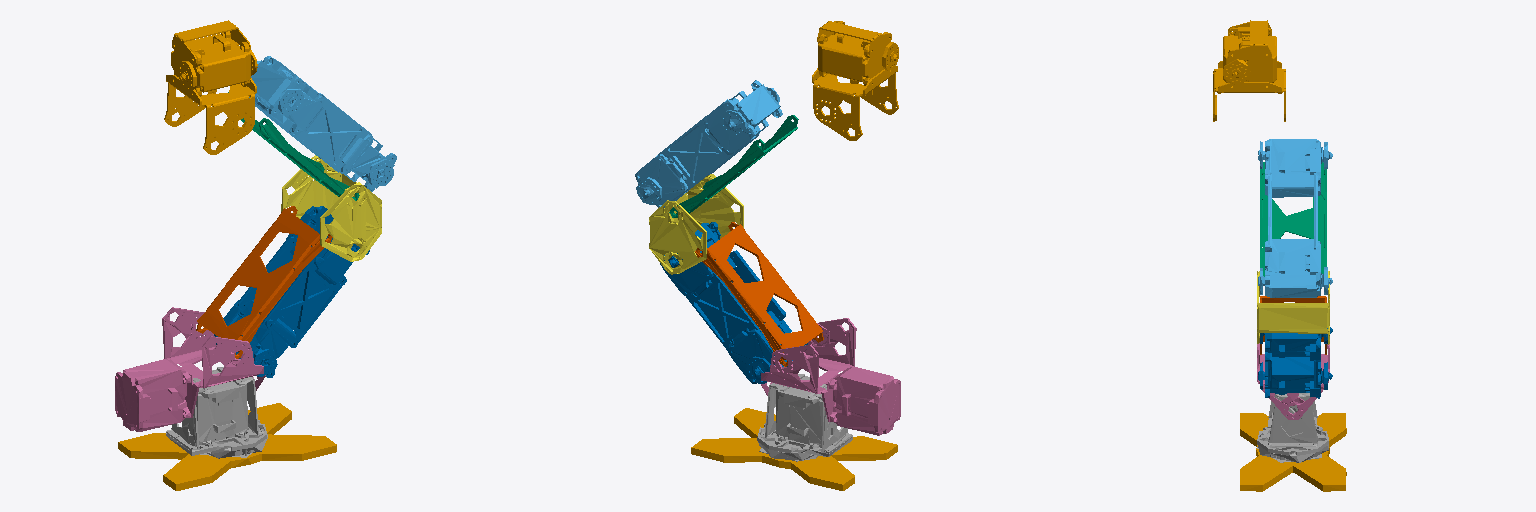
The robot description file, URDF, robot "ginko":
<?xml version="1.0" ?>
<!-- =================================================================================== -->
<!-- |    This document was autogenerated by xacro from leg_l_test.urdf.xacro          | -->
<!-- |    EDITING THIS FILE BY HAND IS NOT RECOMMENDED                                 | -->
<!-- =================================================================================== -->
<robot name="ginko" xmlns:xacro="http://www.ros.org/wiki/xacro">

  <link name="leg_l_link0">
    <!-- Collision created from STL mesh without color -->
    <collision>
      <origin rpy="0 0 0" xyz="0 0 0"/>
      <geometry>
        <mesh filename="package://ginko_description/models/ginko_auto/meshes/stl/link02_l_femoral.stl"/>
      </geometry>
    </collision>
    <!-- Visualisation created from Color dae -->
    <visual>
      <origin rpy="0 0 0" xyz="0 0 0"/>
      <geometry>
        <mesh filename="package://ginko_description/models/ginko_auto/meshes/stl/link02_l_femoral.stl"/>
        <!-- <mesh filename="package://ginko_description/models/ginko_auto/meshes/dae/link02_l_femoral.dae"/> -->
      </geometry>
    </visual>
    <inertial>
      <mass value="0.03433352"/>
      <origin rpy="0 0 0" xyz="0.02930795 0.03723759 -0.02605386"/>
      <inertia ixx="0.00002443" ixy="-0.00000021" ixz="-0.00000021" iyy="0.00002287" iyz="-0.00000391" izz="0.00002983"/>
    </inertial>
  </link>

  <!-- parallel link (upper-1st) -->
  <link name="leg_l_link1">
    <!-- Collision created from STL mesh without color -->
    <collision>
      <origin rpy="0 0 0" xyz="0 0 0"/>
      <geometry>
        <mesh filename="package://ginko_description/models/ginko_auto/meshes/stl/link03_l_leg01.stl"/>
      </geometry>
    </collision>
    <!-- Visualisation created from Color dae -->
    <visual>
      <origin rpy="0 0 0" xyz="0 0 0"/>
      <geometry>
        <mesh filename="package://ginko_description/models/ginko_auto/meshes/stl/link03_l_leg01.stl"/>
        <!-- <mesh filename="package://ginko_description/models/ginko_auto/meshes/dae/link03_l_leg01.dae"/> -->
      </geometry>
    </visual>
    <inertial>
      <mass value="0.18525692"/>
      <origin rpy="0 0 0" xyz="0.05000000 0.03285059 0.00068146"/>
      <inertia ixx="0.00041331" ixy="-0.00003605" ixz="-0.00000000" iyy="0.00027917" iyz="-0.00000184" izz="0.00066510"/>
    </inertial>
  </link>
  <joint name="leg_l_joint1" type="revolute">
    <parent link="leg_l_link0"/>
    <child link="leg_l_link1"/>
    <origin rpy="0 0.7854 0" xyz="0.0433 0.0175 -0.0481"/>
    <axis xyz="0 -1 0"/>
    <limit effort="1000.0" lower="-1.3" upper="0.7854" velocity="0.5"/>
  </joint>
  <!-- parallel link (upper-2nd) -->
  <link name="leg_l_link2">
    <!-- Collision created from STL mesh without color -->
    <collision>
      <origin rpy="0 0 0" xyz="0 0 0"/>
      <geometry>
        <mesh filename="package://ginko_description/models/ginko_auto/meshes/stl/link04_l_leg02.stl"/>
      </geometry>
    </collision>
    <!-- Visualisation created from Color dae -->
    <visual>
      <origin rpy="0 0 0" xyz="0 0 0"/>
      <geometry>
        <mesh filename="package://ginko_description/models/ginko_auto/meshes/stl/link04_l_leg02.stl"/>
        <!-- <mesh filename="package://ginko_description/models/ginko_auto/meshes/dae/link04_l_leg02.dae"/> -->
      </geometry>
    </visual>
    <inertial>
      <mass value="0.01646643"/>
      <origin rpy="0 0 0" xyz="0.05000000 0.02495100 -0.00491150"/>
      <inertia ixx="0.00000640" ixy="0.00000000" ixz="0.00000000" iyy="0.00001642" iyz="0.00000000" izz="0.00002264"/>
    </inertial>
  </link>
  <joint name="leg_l_joint2" type="revolute">
    <parent link="leg_l_link0"/>
    <child link="leg_l_link2"/>
    <origin rpy="0 0.7854 0" xyz="0.022 0.0175 -0.06015"/>
    <axis xyz="0 -1 0"/>
    <limit effort="1000.0" lower="-3.141593" upper="3.141593" velocity="0.5"/>
  </joint>
  <!-- knee -->
  <link name="leg_l_link3">
    <collision>
      <origin rpy="0 0 0" xyz="0 0 0"/>
      <geometry>
        <mesh filename="package://ginko_description/models/ginko_auto/meshes/stl/link05_l_knee.stl"/>
      </geometry>
    </collision>
    <visual>
      <origin rpy="0 0 0" xyz="0 0 0"/>
      <geometry>
        <mesh filename="package://ginko_description/models/ginko_auto/meshes/stl/link05_l_knee.stl"/>
        <!-- <mesh filename="package://ginko_description/models/ginko_auto/meshes/dae/link05_l_knee.dae"/> -->
      </geometry>
    </visual>
    <inertial>
      <mass value="0.01781176"/>
      <origin rpy="0 0 0" xyz="0.00393357 0.02364163 -0.01930000"/>
      <inertia ixx="0.00001301" ixy="0.00000008" ixz="0.00000000" iyy="0.00000700" iyz="0.00000000" izz="0.00001388"/>
    </inertial>
  </link>
<!--   <joint name="leg_l_joint3" type="revolute">
    <parent link="leg_l_link1"/>
    <child link="leg_l_link3"/>
    <origin rpy="0 -0.7854 0" xyz="0.1 0.0 0.0"/>
    <axis xyz="0 1 0"/>
    <limit effort="1000.0" lower="-3.141593" upper="3.141593" velocity="0.5"/>
  </joint> -->
  <joint name="leg_l_joint3_sub" type="revolute">
    <parent link="leg_l_link2"/>
    <child link="leg_l_link3"/>
    <origin rpy="0 -0.7854 0" xyz="0.1 0.0 0.0"/>
    <axis xyz="0 1 0"/>
    <limit effort="1000.0" lower="-3.141593" upper="3.141593" velocity="0.5"/>
  </joint>
  <!-- parallel link (lower-1st) -->
  <link name="leg_l_link4">
    <collision>
      <origin rpy="0 0 0" xyz="0 0 0"/>
      <geometry>
        <mesh filename="package://ginko_description/models/ginko_auto/meshes/stl/link03_l_leg01.stl"/>
      </geometry>
    </collision>
    <visual>
      <origin rpy="0 0 0" xyz="0 0 0"/>
      <geometry>
        <mesh filename="package://ginko_description/models/ginko_auto/meshes/stl/link03_l_leg01.stl"/>
      </geometry>
    </visual>
    <inertial>
      <mass value="0.18525692"/>
      <origin rpy="0 0 0" xyz="0.05000000 0.03285059 0.00068146"/>
      <inertia ixx="0.00041331" ixy="-0.00003605" ixz="-0.00000000" iyy="0.00027917" iyz="-0.00000184" izz="0.00066510"/>
    </inertial>
  </link>
  <joint name="leg_l_joint4" type="revolute">
    <parent link="leg_l_link3"/>
    <child link="leg_l_link4"/>
    <origin rpy="0 2.3562 0" xyz="0 0 -0.0386"/>
    <axis xyz="0 -1 0"/>
    <limit effort="1000.0" lower="-0.7854" upper="1.3" velocity="0.5"/>
  </joint>
  <!-- parallel link (lower-2nd) -->
  <link name="leg_l_link5">
    <collision>
      <origin rpy="0 0 0" xyz="0 0 0"/>
      <geometry>
        <mesh filename="package://ginko_description/models/ginko_auto/meshes/stl/link04_l_leg02.stl"/>
      </geometry>
    </collision>
    <visual>
      <origin rpy="0 0 0" xyz="0 0 0"/>
      <geometry>
        <mesh filename="package://ginko_description/models/ginko_auto/meshes/stl/link04_l_leg02.stl"/>
      </geometry>
    </visual>
    <inertial>
      <mass value="0.01646643"/>
      <origin rpy="0 0 0" xyz="0.05000000 0.02495100 -0.00491150"/>
      <inertia ixx="0.00000640" ixy="0.00000000" ixz="0.00000000" iyy="0.00001642" iyz="0.00000000" izz="0.00002264"/>
    </inertial>
  </link>
  <joint name="leg_l_joint5" type="revolute">
    <parent link="leg_l_link3"/>
    <child link="leg_l_link5"/>
    <origin rpy="0 2.3562 0" xyz="-0.0213 0 -0.02655"/>
    <axis xyz="0 -1 0"/>
    <limit effort="1000.0" lower="-3.141593" upper="3.141593" velocity="0.5"/>
  </joint>
  <!-- toe -->
  <link name="leg_l_link6">
    <collision>
      <origin rpy="0 0 0" xyz="0 0 0"/>
      <geometry>
        <mesh filename="package://ginko_description/models/ginko_auto/meshes/stl/link06_l_toe01.stl"/>
      </geometry>
    </collision>
    <visual>
      <origin rpy="0 0 0" xyz="0 0 0"/>
      <geometry>
        <mesh filename="package://ginko_description/models/ginko_auto/meshes/stl/link06_l_toe01.stl"/>
      </geometry>
    </visual>
    <inertial>
      <mass value="0.08799204"/>
      <origin rpy="0 0 0" xyz="-0.04166125 0.02463880 -0.02586249"/>
      <inertia ixx="0.00002815" ixy="-0.00000041" ixz="0.00000980" iyy="0.00006846" iyz="-0.00000026" izz="0.00006529"/>
    </inertial>
  </link>
<!--   <joint name="leg_l_joint6" type="revolute">
    <parent link="leg_l_link4"/>
    <child link="leg_l_link6"/>
    <origin rpy="0 -2.3562 0" xyz="0.1 0.0 0.0"/>
    <axis xyz="0 1 0"/>
    <limit effort="1000.0" lower="-3.141593" upper="3.141593" velocity="0.5"/>
  </joint> -->
  <joint name="leg_l_joint6_sub" type="revolute">
    <parent link="leg_l_link5"/>
    <child link="leg_l_link6"/>
    <origin rpy="0 -2.3562 0" xyz="0.1 0.0 0.0"/>
    <axis xyz="0 1 0"/>
    <limit effort="1000.0" lower="-3.141593" upper="3.141593" velocity="0.5"/>
  </joint>
  <link name="leg_l_link7">
    <collision>
      <origin rpy="0 0 0" xyz="0 0 0"/>
      <geometry>
        <mesh filename="package://ginko_description/models/ginko_auto/meshes/stl/link07_l_toe02.stl"/>
      </geometry>
    </collision>
    <visual>
      <origin rpy="0 0 0" xyz="0 0 0"/>
      <geometry>
        <mesh filename="package://ginko_description/models/ginko_auto/meshes/stl/link07_l_toe02.stl"/>
      </geometry>
    </visual>
    <inertial>
      <mass value="0.10920041"/>
      <origin rpy="0 0 0" xyz="0.02658756 0.00000053 -0.01782468"/>
      <inertia ixx="0.00003853" ixy="0.00000000" ixz="-0.00000479" iyy="0.00005192" iyz="0.00000000" izz="0.00003521"/>
    </inertial>
  </link>
  <joint name="leg_l_joint7" type="revolute">
    <parent link="leg_l_link6"/>
    <child link="leg_l_link7"/>
    <origin rpy="0 0 0" xyz="-0.028 0.02475 -0.0391"/>
    <axis xyz="-1 0 0"/>
    <limit effort="1000.0" lower="-1.6" upper="1.6" velocity="0.5"/>
  </joint>
  <link name="leg_l_link8">
    <collision>
      <origin rpy="0 0 0" xyz="0 0 0"/>
      <geometry>
        <mesh filename="package://ginko_description/models/ginko_auto/meshes/stl/link08_l_toe03.stl"/>
      </geometry>
    </collision>
    <visual>
      <origin rpy="0 0 0" xyz="0 0 0"/>
      <geometry>
        <mesh filename="package://ginko_description/models/ginko_auto/meshes/stl/link08_l_toe03.stl"/>
      </geometry>
    </visual>
    <inertial>
      <mass value="0.05363111"/>
      <origin rpy="0 0 0" xyz="0.00000000 0.00000000 -0.00269342"/>
      <inertia ixx="0.00002877" ixy="0.00000000" ixz="0.00000000" iyy="0.00007083" iyz="-0.00000000" izz="0.00009934"/>
    </inertial>
  </link>
  <joint name="leg_l_joint8" type="revolute">
    <parent link="leg_l_link7"/>
    <child link="leg_l_link8"/>
    <origin rpy="0 0 0" xyz="0.0342 0 -0.04"/>
    <axis xyz="0 0 1"/>
    <limit effort="1000.0" lower="-2.6" upper="2.6" velocity="0.5"/>
  </joint>

</robot>

--- Render facts (derived) ---
3 views of the same robot in one strip: view 1: azimuth 30°, elevation 25°; view 2: azimuth 150°, elevation 25°; view 3: azimuth 270°, elevation 25° (orthographic).
Model ginko with 9 links and 8 joints (8 revolute), rooted at leg_l_link0, posed all joints at 0.
Links seen in each view (by area): view 1: leg_l_link6, leg_l_link0, leg_l_link1, leg_l_link4, leg_l_link8, leg_l_link5, leg_l_link7, leg_l_link3, leg_l_link2; view 2: leg_l_link6, leg_l_link1, leg_l_link0, leg_l_link4, leg_l_link5, leg_l_link8, leg_l_link7, leg_l_link3, leg_l_link2; view 3: leg_l_link1, leg_l_link0, leg_l_link8, leg_l_link4, leg_l_link7, leg_l_link2, leg_l_link3, leg_l_link6.
Link boxes in pixels (box(x1,y1,x2,y2)): leg_l_link6: box(115, 307, 265, 431); leg_l_link0: box(164, 20, 257, 154); leg_l_link1: box(249, 56, 396, 191); leg_l_link4: box(214, 206, 369, 377); leg_l_link8: box(118, 403, 336, 490); leg_l_link5: box(196, 206, 332, 358); leg_l_link7: box(166, 367, 267, 458); leg_l_link3: box(281, 155, 381, 261); leg_l_link2: box(228, 92, 359, 200); leg_l_link6: box(761, 318, 900, 435); leg_l_link1: box(635, 80, 782, 207); leg_l_link0: box(812, 21, 898, 140); leg_l_link4: box(660, 222, 807, 383); leg_l_link5: box(695, 222, 823, 366); leg_l_link8: box(691, 408, 897, 490); leg_l_link7: box(757, 374, 852, 461); leg_l_link3: box(649, 174, 743, 274); leg_l_link2: box(669, 115, 798, 217); leg_l_link1: box(1258, 139, 1332, 297); leg_l_link0: box(1213, 20, 1285, 121); leg_l_link8: box(1240, 413, 1346, 491); leg_l_link4: box(1258, 327, 1332, 398); leg_l_link7: box(1257, 393, 1328, 462); leg_l_link2: box(1260, 162, 1326, 276); leg_l_link3: box(1257, 271, 1329, 344); leg_l_link6: box(1257, 343, 1329, 419).
Bounding box of the posed robot: 0.2021 × 0.0995 × 0.3344 m (x, y, z).
Meshes: 7 distinct files referenced, 9 mesh visuals loaded (7 binary STL).
